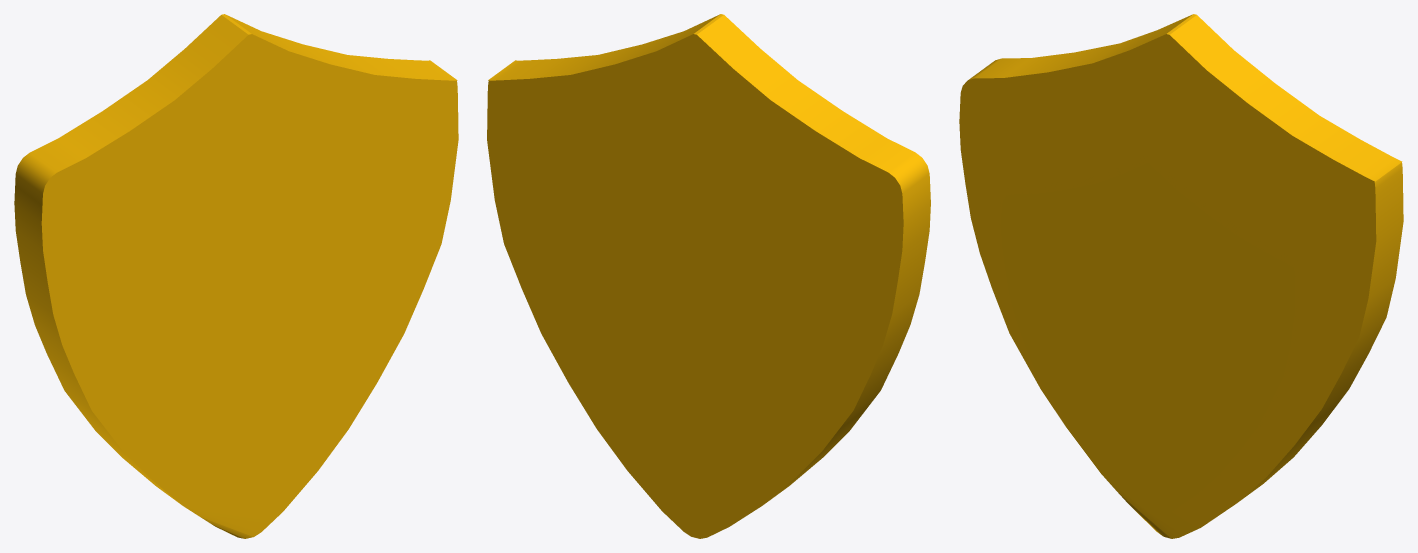
File: shield1.fbx
3 views of the same model, side by side, from view 1: azimuth 30°, elevation 25°; view 2: azimuth 150°, elevation 25°; view 3: azimuth 330°, elevation 25° (orthographic).
Visible parts, largest first — view 1: Cube.004; view 2: Cube.004; view 3: Cube.004.
Part boxes in pixels (box(x1,y1,x2,y2)): Cube.004: box(14, 14, 458, 538); Cube.004: box(487, 14, 930, 538); Cube.004: box(959, 14, 1403, 538).
Bounding box in the file's own units: 882 × 100 × 1018.
